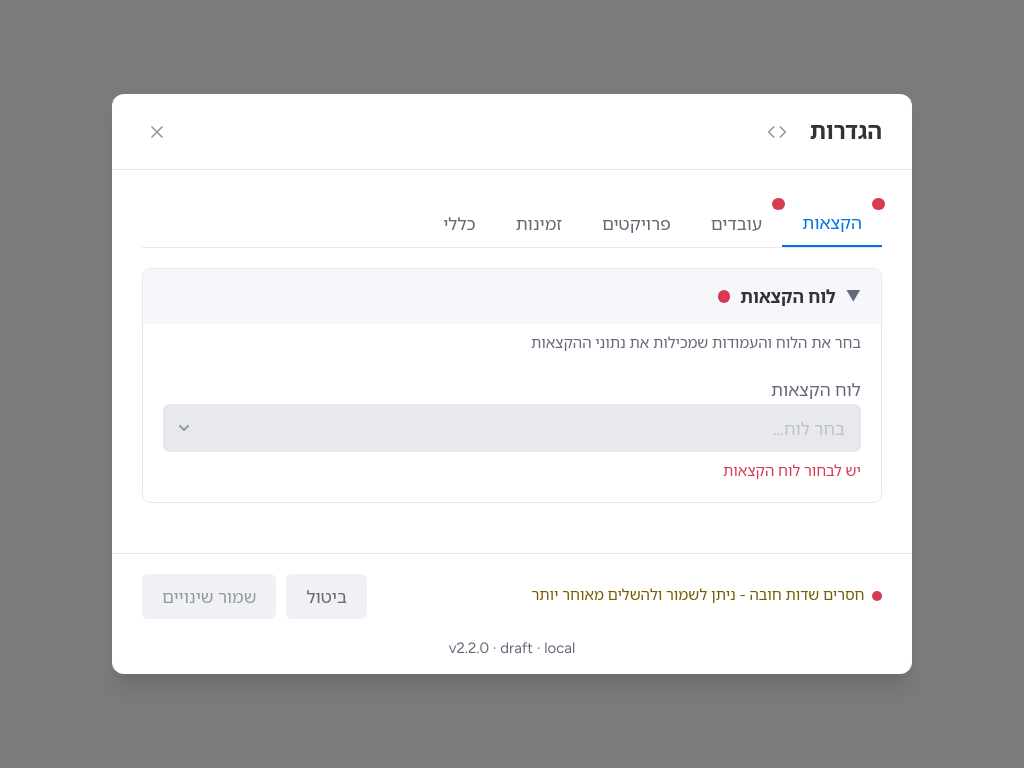
Test: SettingsDialog — Day-off availability tab (W3.6) › shows the Day-off section; pickers hidden until a board is mapped
Click the button "זמינות" at (539, 224), box left=496, top=200, right=582, bottom=247
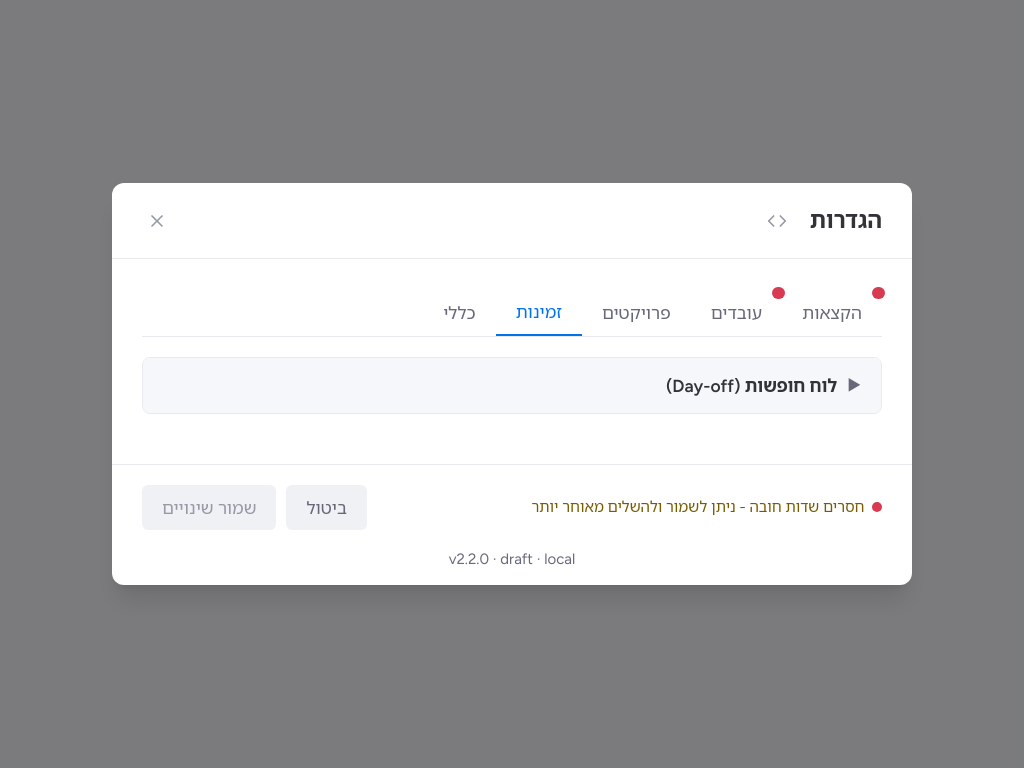
Now the heading "לוח חופשות (Day-off)" is shown
Click the heading "לוח חופשות (Day-off)" at (752, 386), box left=666, top=373, right=837, bottom=398
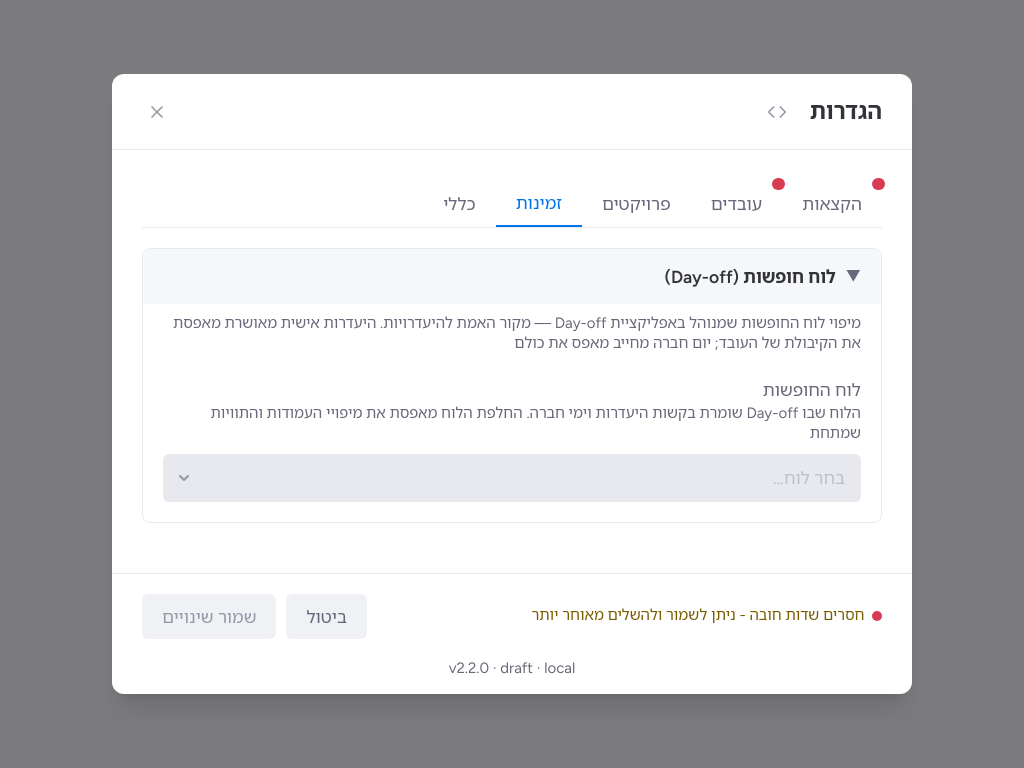
Now the text "לוח החופשות" is shown, box left=763, top=379, right=861, bottom=400
